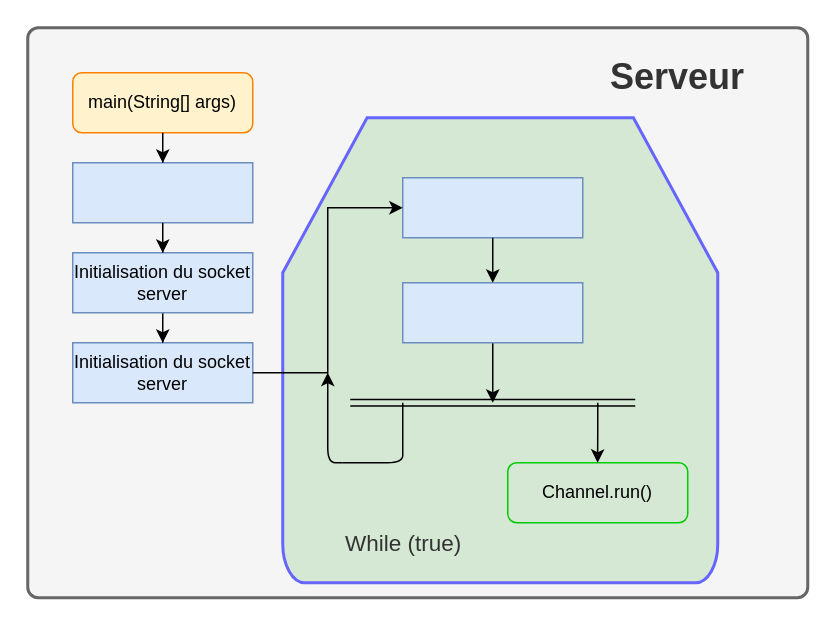
Image size: 834x624. Some labels were removed from this diagram. Each missing label, with the centre of its shape:
"Attendre une connexion" goes at (x=492, y=207).
"Création d'une instance Channel" goes at (x=492, y=312).
"Vérification des arguments" goes at (x=162, y=192).
